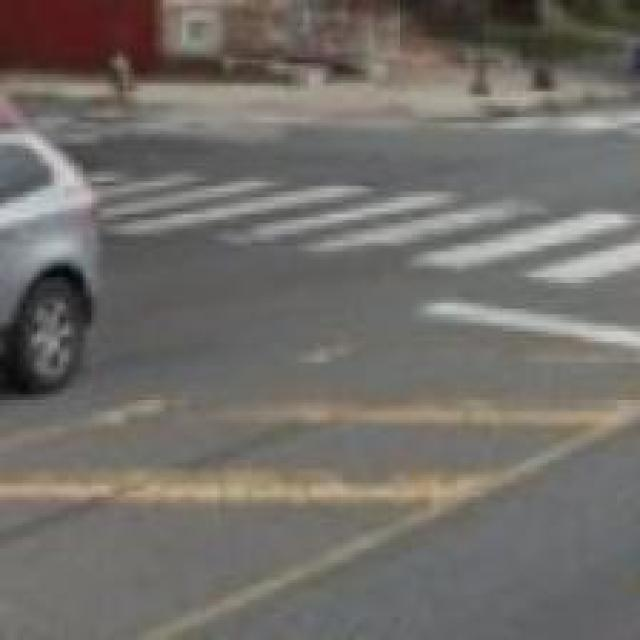walk-crossing: (0, 185, 640, 324)
